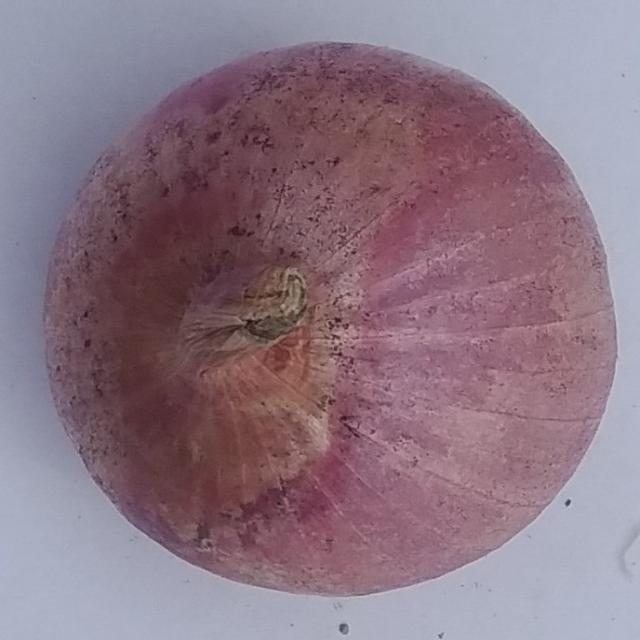onion: (46, 41, 618, 596)
